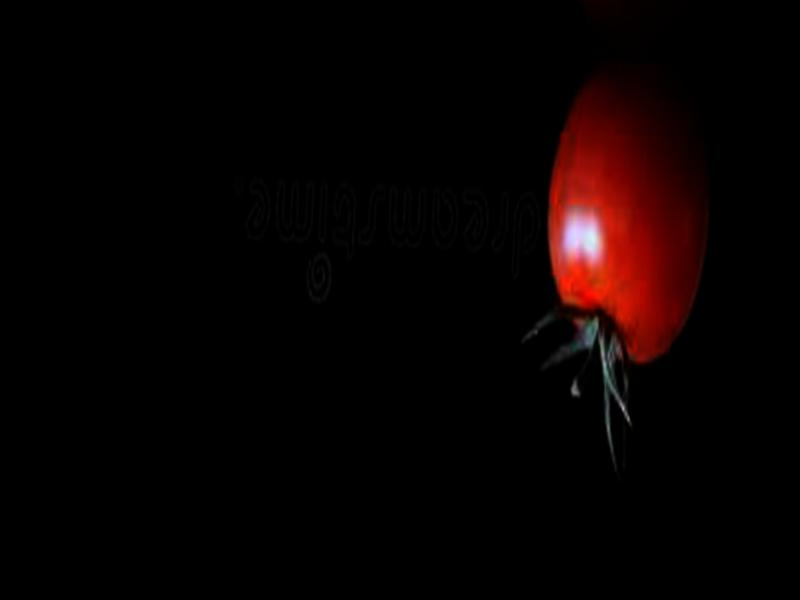Tomato: (539, 57, 715, 369)
